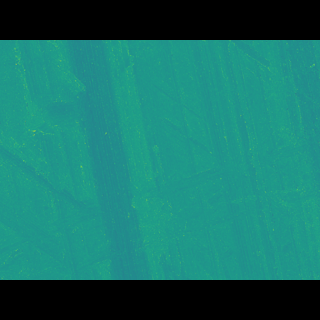Loch: (0, 141, 320, 250), (0, 70, 91, 144)
